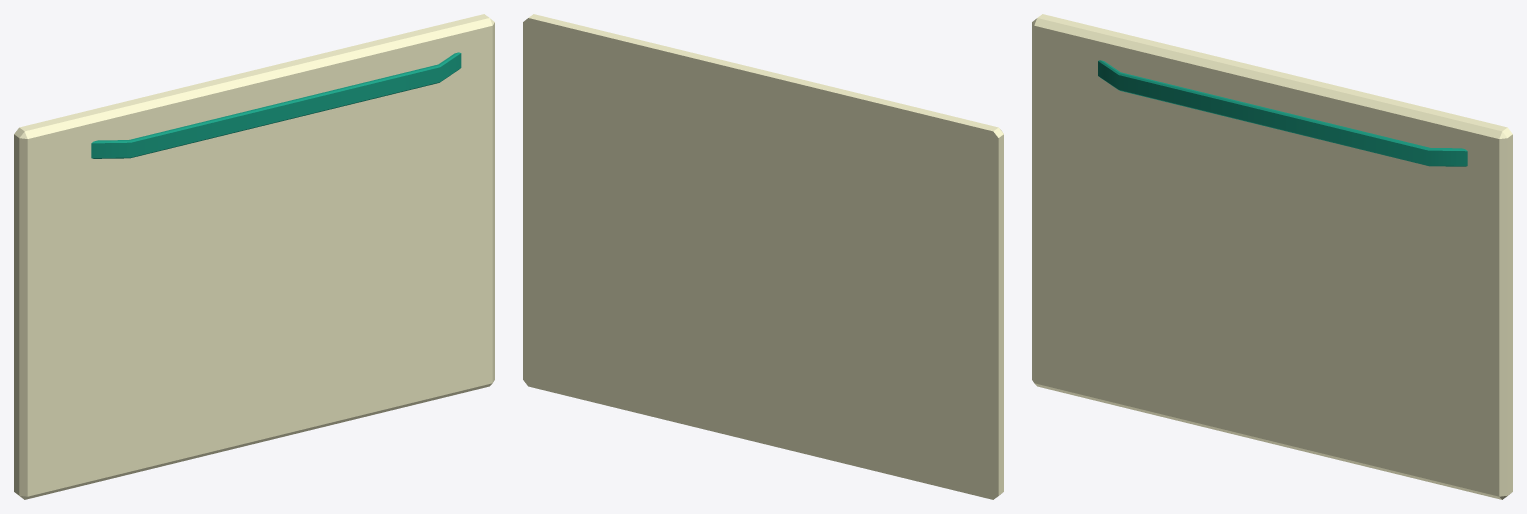
The model's file is P_Oven_Door.FBX.
3 views of the same model, side by side, from view 1: azimuth 30°, elevation 25°; view 2: azimuth 150°, elevation 25°; view 3: azimuth 330°, elevation 25° (orthographic).
Parts seen in each view (by area): view 1: Oven_Door; view 2: Oven_Door; view 3: Oven_Door.
Boxes of the visible parts, x1,y1,x2,y2 form: Oven_Door: (14,14,494,499); Oven_Door: (523,14,1003,499); Oven_Door: (1032,14,1512,499).
Bounding box in the file's own units: 27.4 × 1.76 × 20.29.
